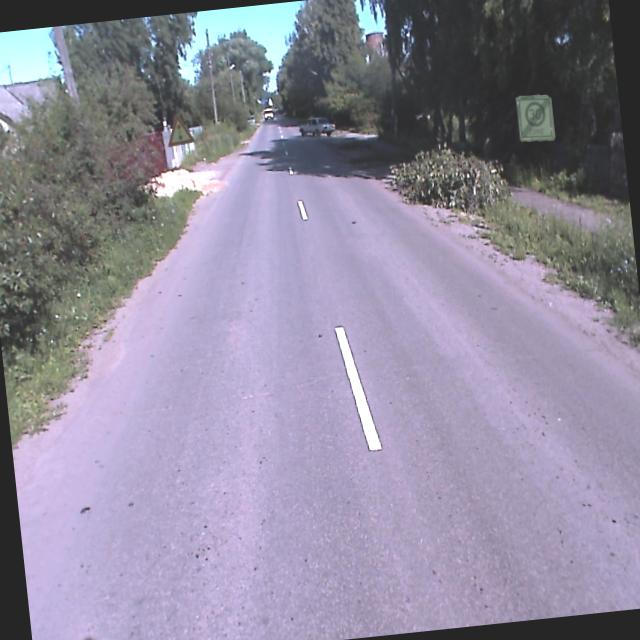road: (16, 110, 640, 640)
